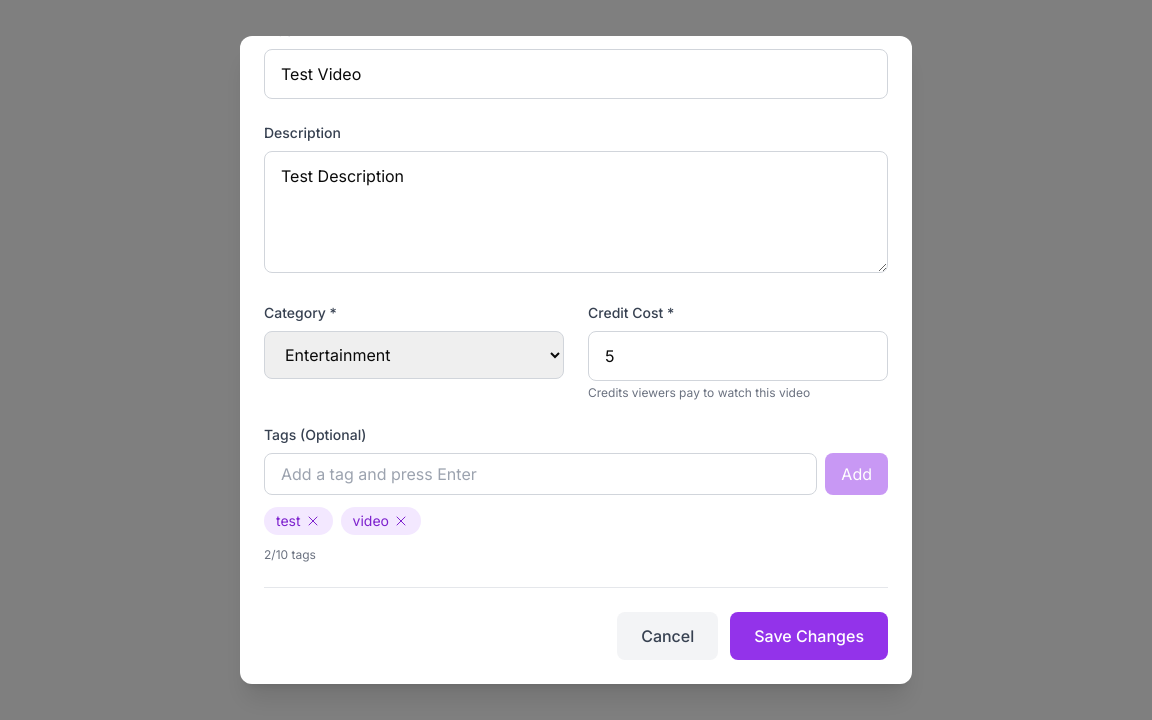
Scenario: VideoEditModal › should handle JSON parsing errors
(page scrolled)
Click the button "Save Changes". click: x=809, y=636
box: [730,612,888,660]
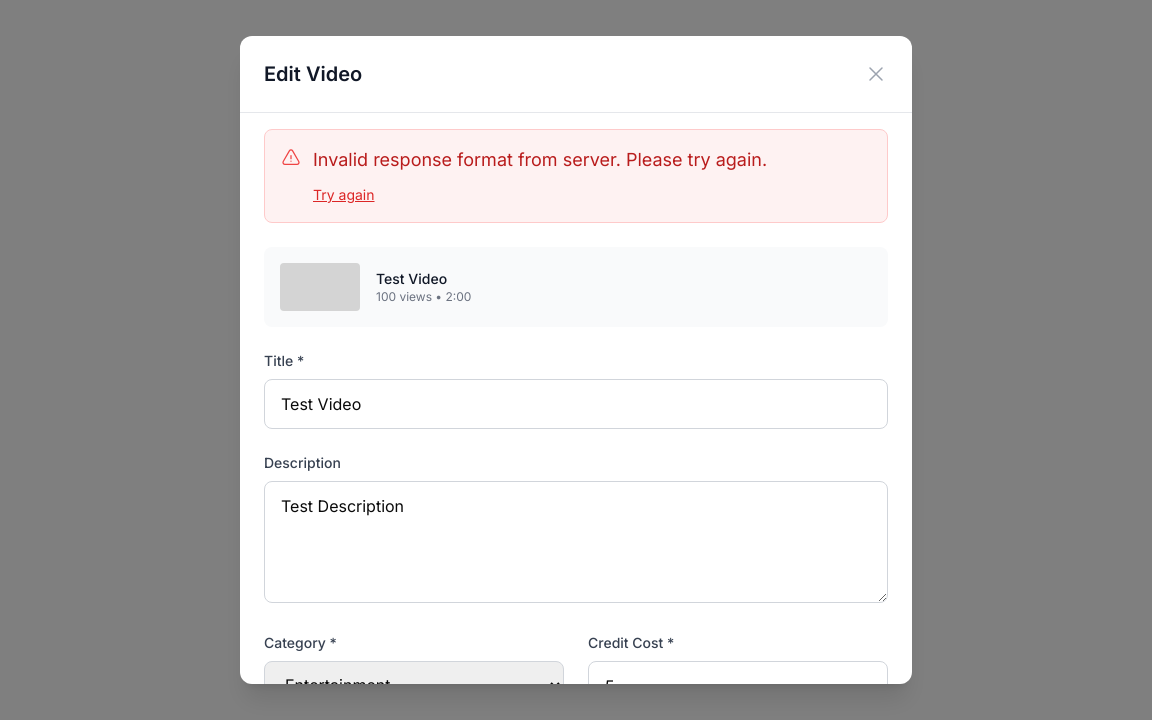
Expected: the text "Invalid response format from server. Please try again." is shown, [313,149,767,170]
